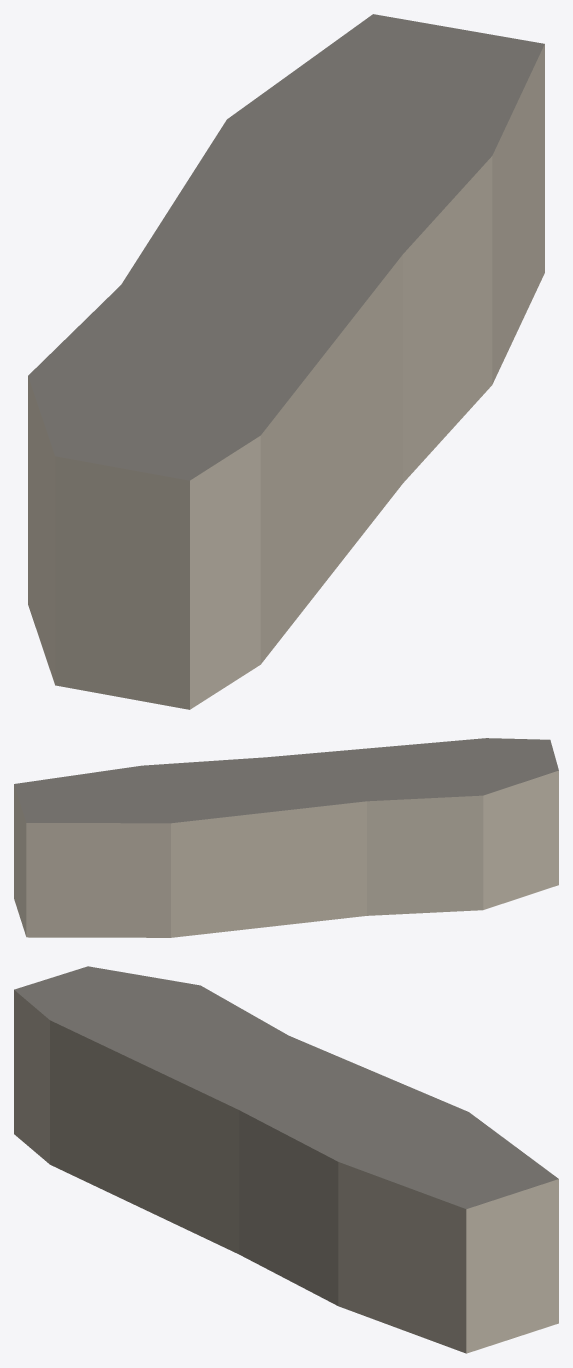
The picture shows the model from 3 angles, top to bottom: view 1: azimuth 30°, elevation 25°; view 2: azimuth 150°, elevation 25°; view 3: azimuth 270°, elevation 25°; orthographic projection. The views are drawn at different scales.
Parts seen in each view (by area): view 1: HP-w144010287; view 2: HP-w144010287; view 3: HP-w144010287.
Part boxes in pixels (left/top/right/bottom): HP-w144010287: left=28, top=14, right=544, bottom=709; HP-w144010287: left=14, top=738, right=558, bottom=937; HP-w144010287: left=14, top=966, right=558, bottom=1353.
Bounding box in the file's own units: 64.92 × 18 × 61.55.
